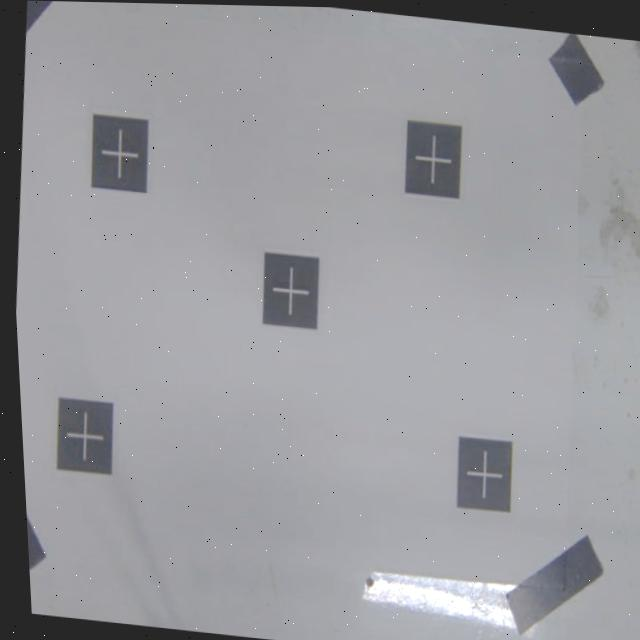dot: (257, 247, 323, 331), (400, 118, 466, 201), (51, 396, 117, 477), (88, 113, 152, 192), (453, 436, 517, 513)
